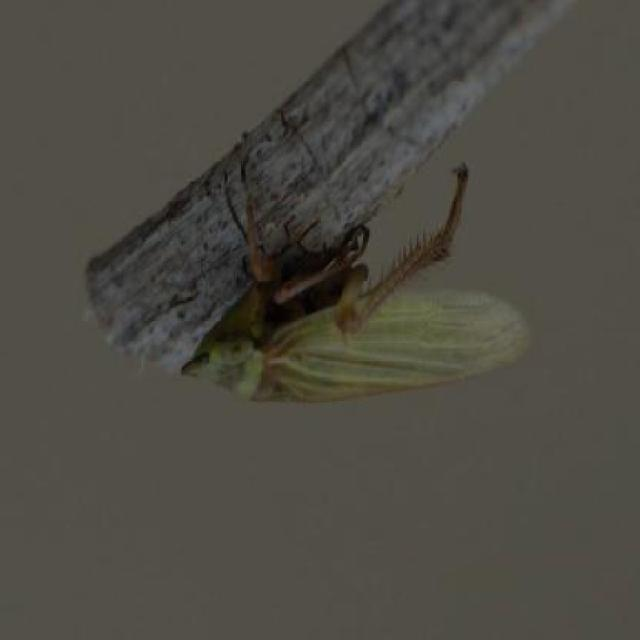green-leafhopper: (186, 142, 528, 407)
